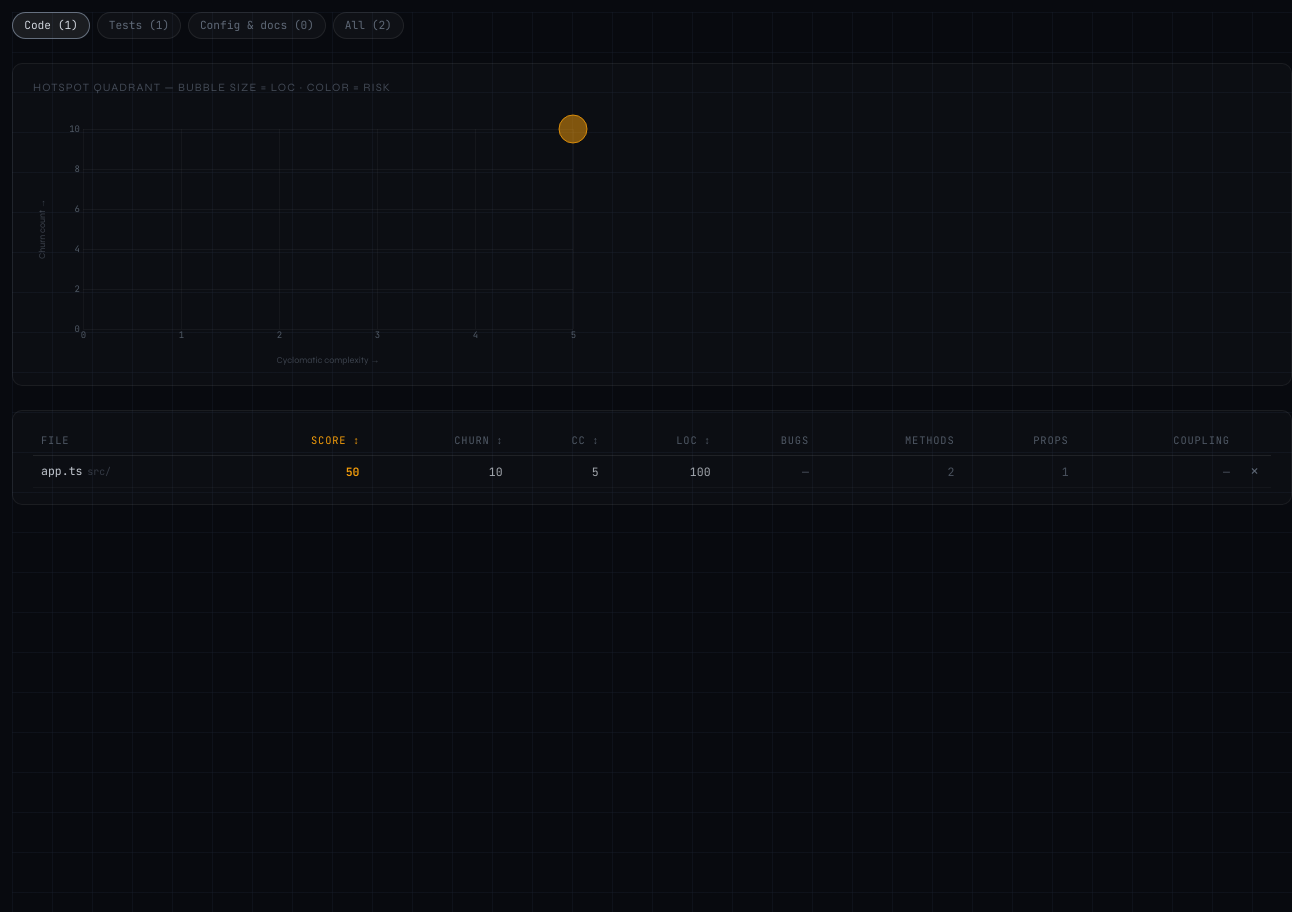
Test case: HotspotsView role filter › shows everything when All is selected
Step 1. Click the button "All (2)" → (368, 25), box [333,12,404,39]
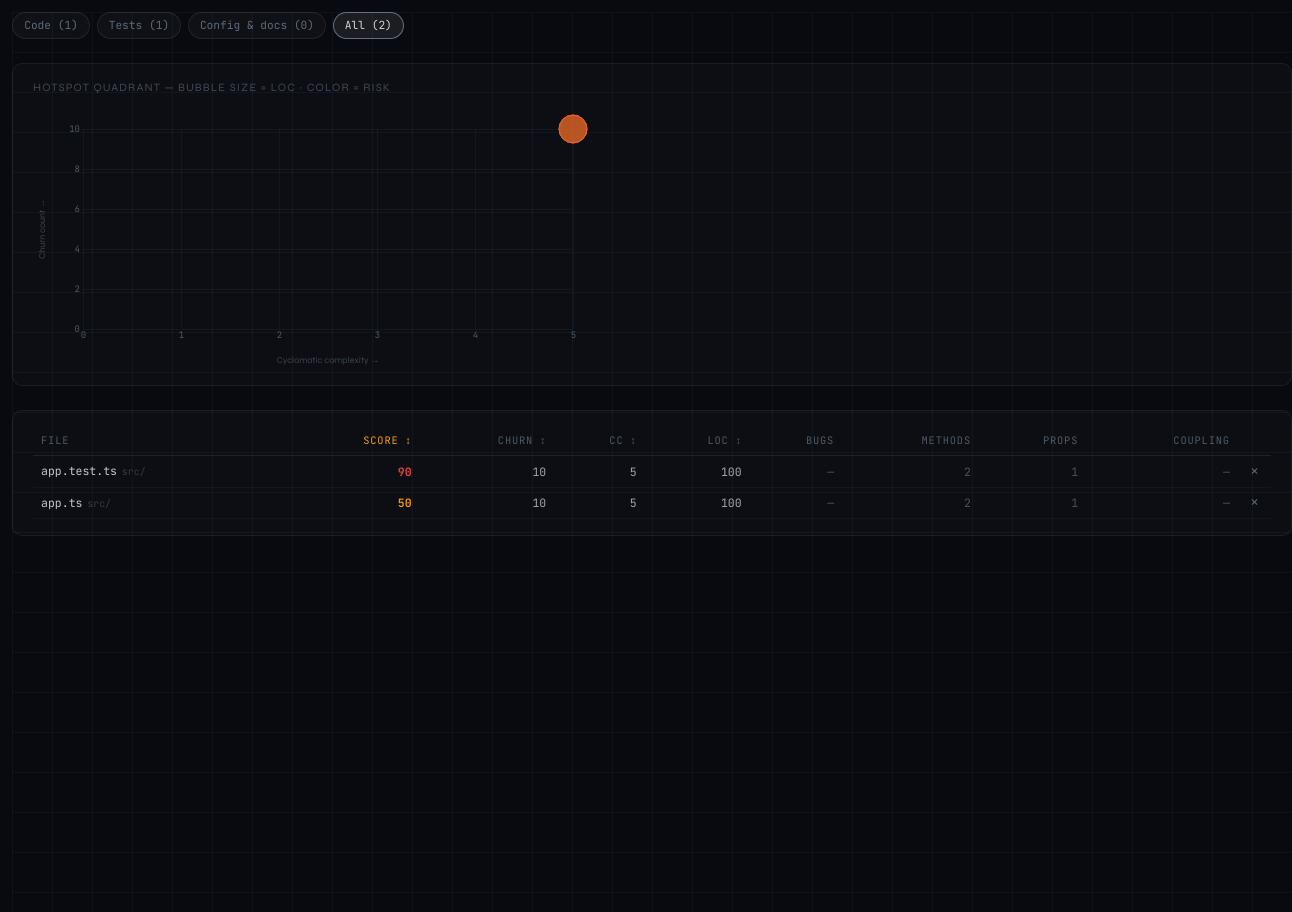
Expected: the cell titled "src/app.ts" is shown, [33,487,285,519]
Result: the cell titled "src/app.test.ts" is shown at [33,456,285,487]
